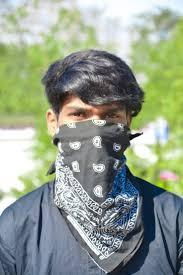scarf-kerchief: (49, 118, 141, 230)
